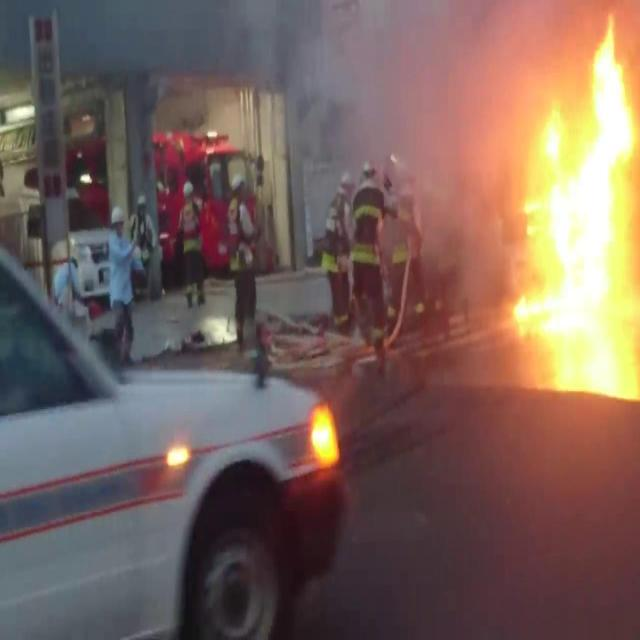Fire: (254, 12, 586, 242), (512, 21, 636, 400)
